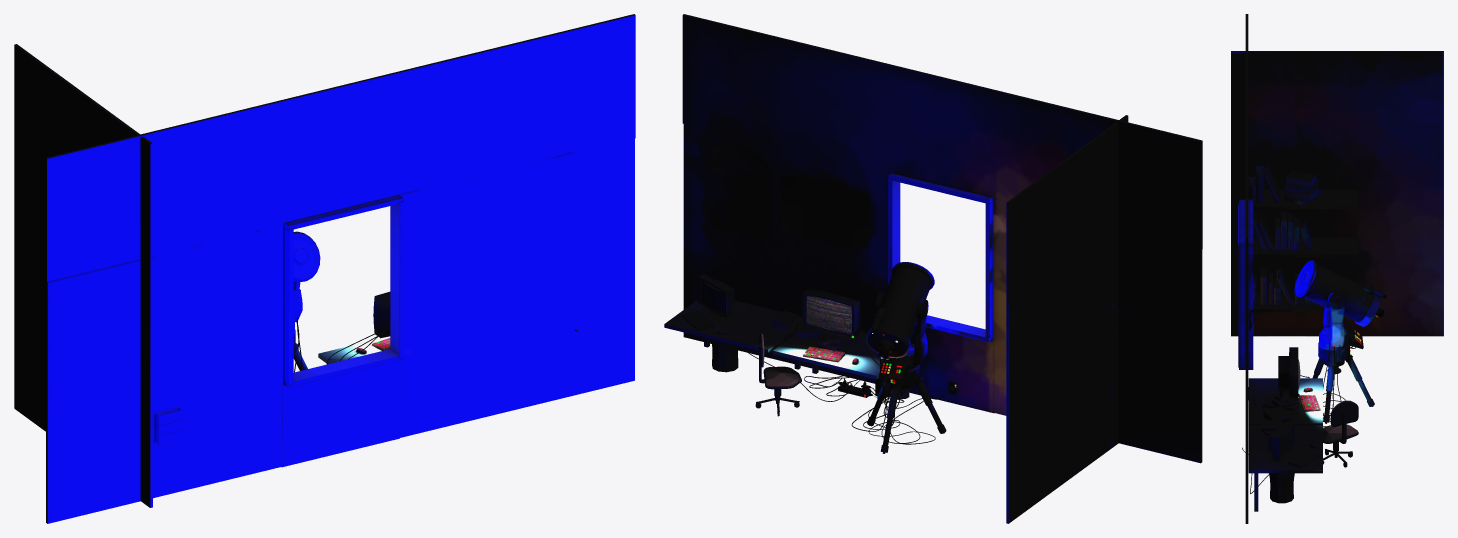
File: CenaTelescopioEXP.fbx
3 renders of one model, left to right at view 1: azimuth 30°, elevation 25°; view 2: azimuth 150°, elevation 25°; view 3: azimuth 270°, elevation 25°, orthographic. The views are drawn at different scales.
Parts seen in each view (by area): view 1: PareceFront, Onjetos; view 2: PareceFront, Onjetos, Tela; view 3: PareceFront, Onjetos.
Part boxes in pixels (x1=…): PareceFront: x1=14, y1=14, x2=635, y2=523; Onjetos: x1=154, y1=231, x2=578, y2=445; PareceFront: x1=682, y1=14, x2=1202, y2=523; Onjetos: x1=664, y1=262, x2=1116, y2=453; Tela: x1=806, y1=295, x2=851, y2=333; PareceFront: x1=1231, y1=14, x2=1443, y2=523; Onjetos: x1=1242, y1=165, x2=1386, y2=511.
Size of the model in its own units: 65.04 by 38.7 by 26.02.
